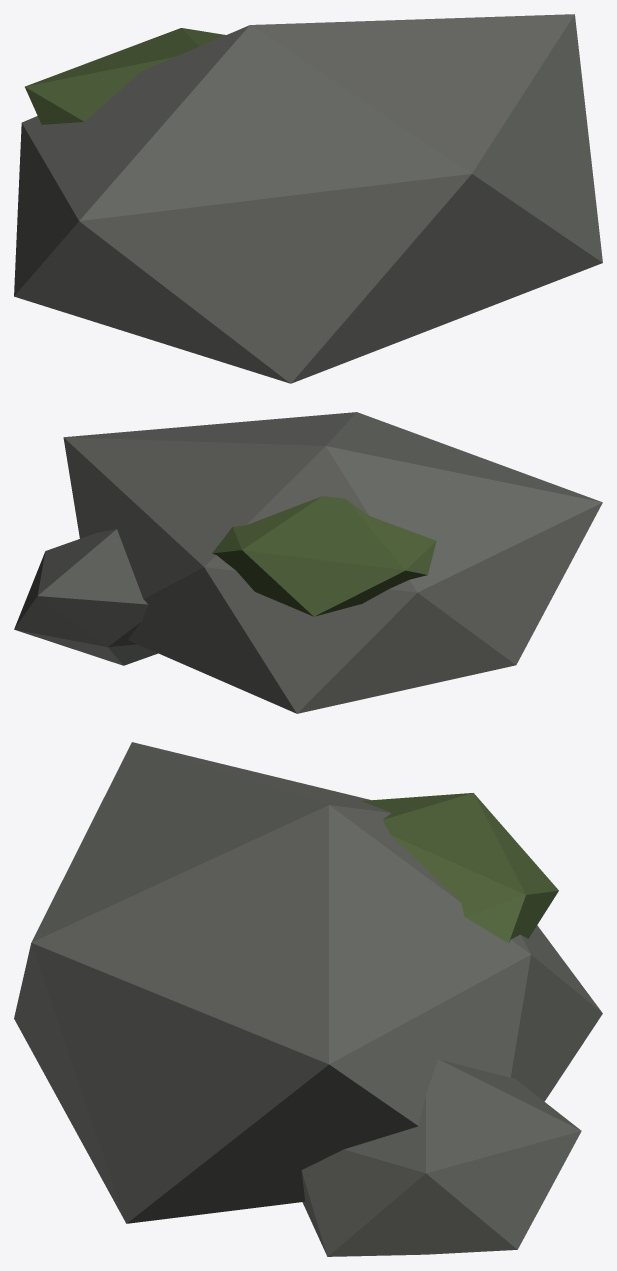
The model's file is pedra_1.glb.
3 renders of one model, top to bottom at view 1: azimuth 30°, elevation 25°; view 2: azimuth 150°, elevation 25°; view 3: azimuth 270°, elevation 25°, orthographic. The views are drawn at different scales.
Visible parts, largest first — view 1: pedra_1.001; view 2: pedra_1.001; view 3: pedra_1.001.
Boxes of the visible parts, x1,y1,x2,y2 form: pedra_1.001: (14,14,602,383); pedra_1.001: (14,412,602,713); pedra_1.001: (14,742,602,1256).
Size of the model in its own units: 0.9992 by 0.4791 by 0.7664.
